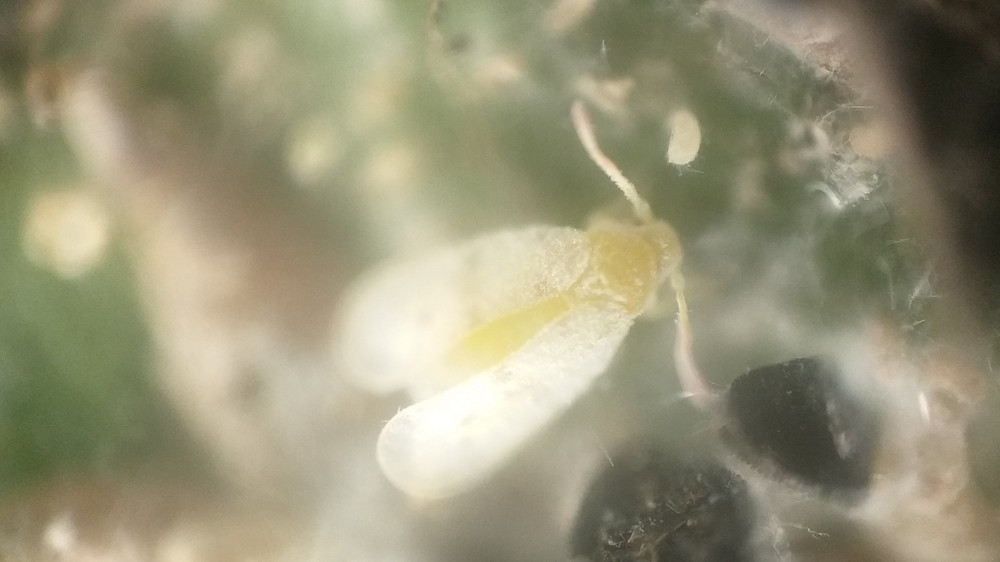Mosca Blanca: (323, 95, 738, 511)
